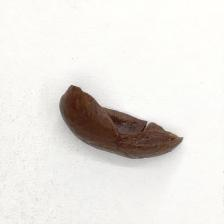NG: (70, 79, 183, 146)
